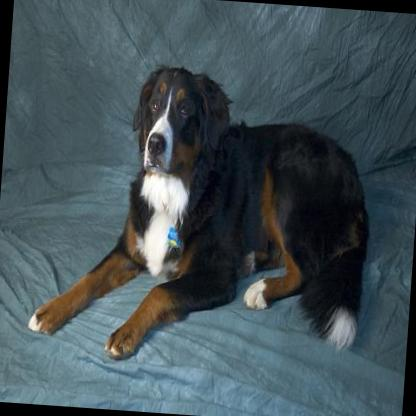Bernese_mountain_dog: (26, 55, 381, 376)
